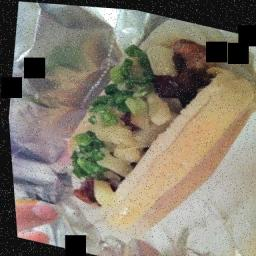hotdog: (50, 12, 256, 254)
